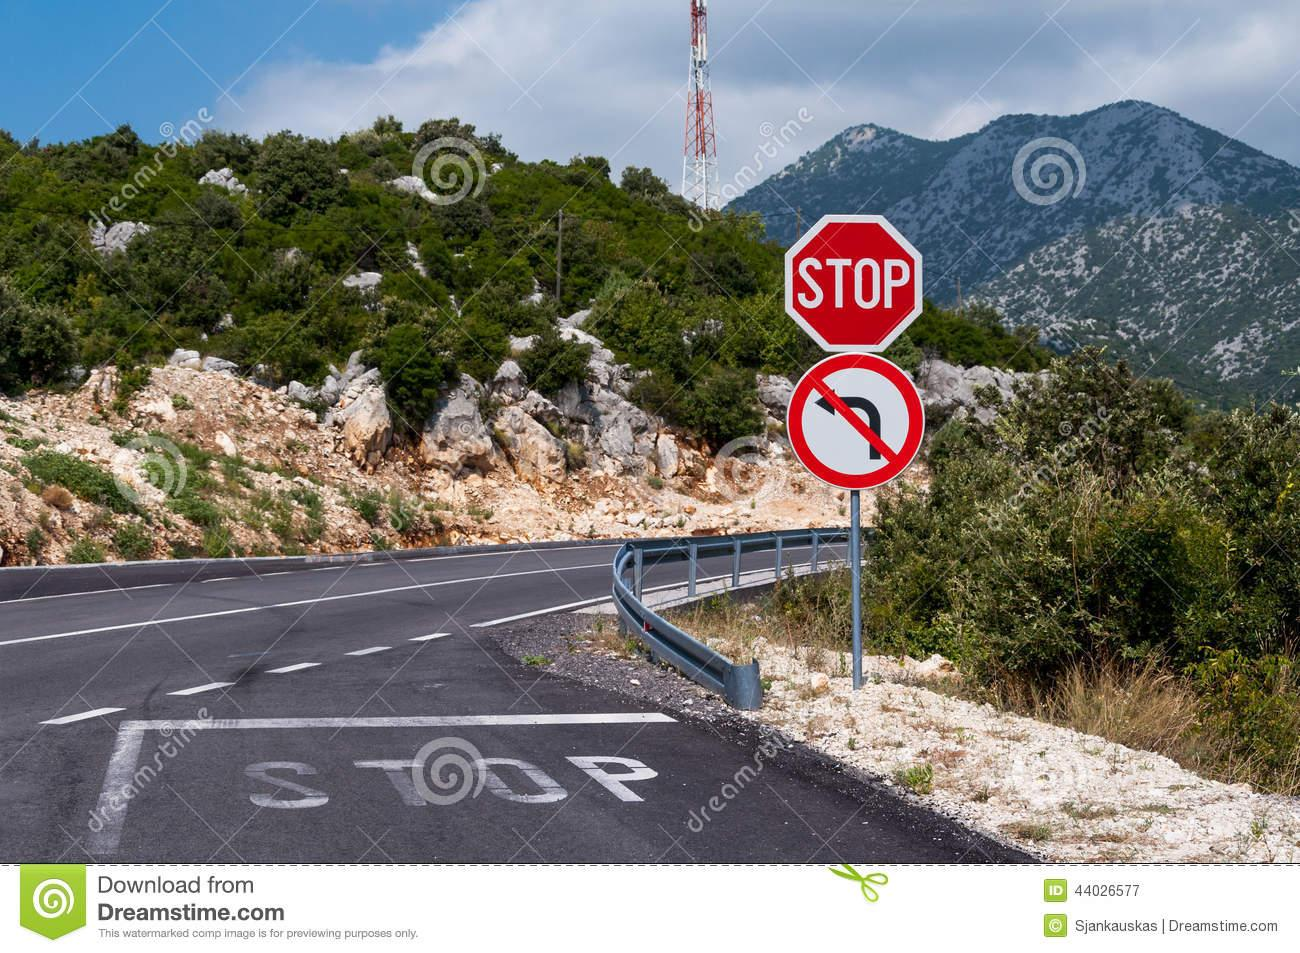Pole: (850, 492, 862, 686)
Sign: (786, 214, 925, 352)
